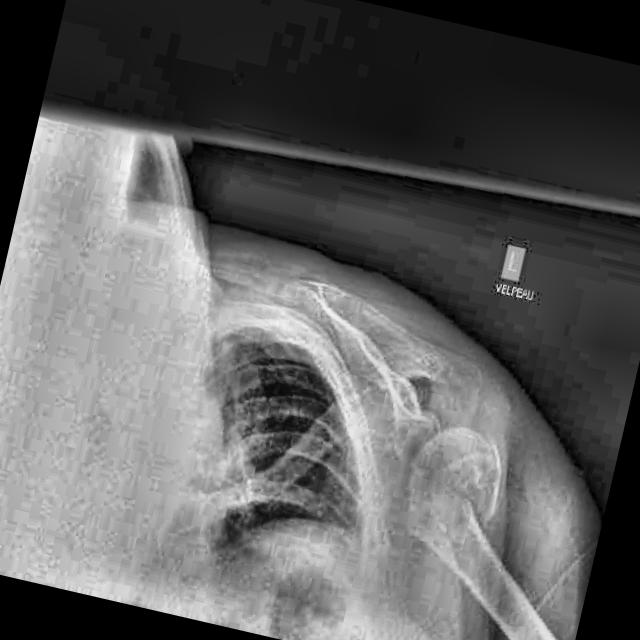shoulder fracture: (454, 408, 517, 487)
